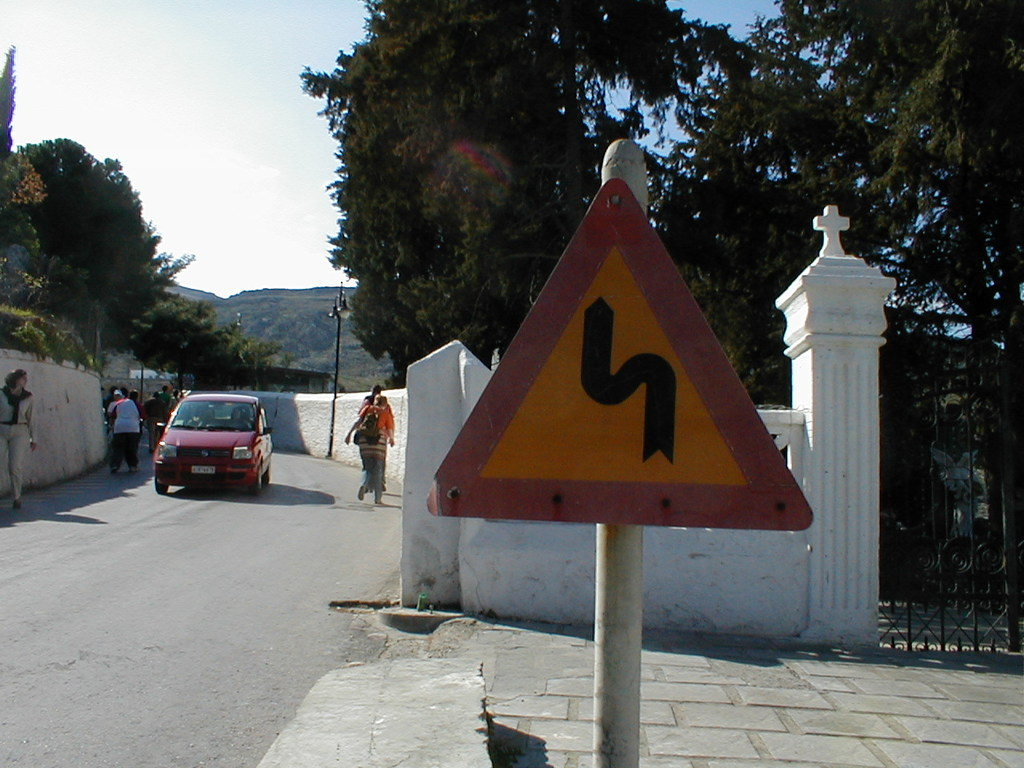multi_bend_ahead: (423, 184, 816, 535)
